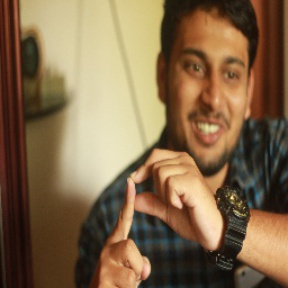P: (97, 146, 205, 288)
